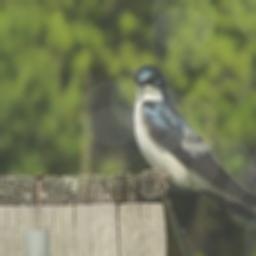Swallow: (131, 62, 256, 223)
